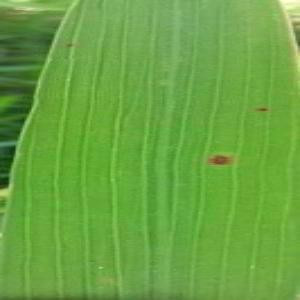0 BrownSpot: (204, 148, 236, 171), (251, 103, 274, 114), (63, 39, 78, 51)
